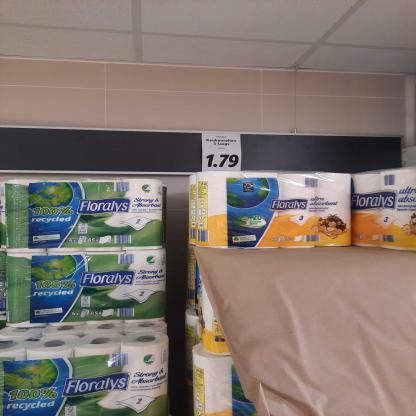prtg: (203, 134, 242, 173)
